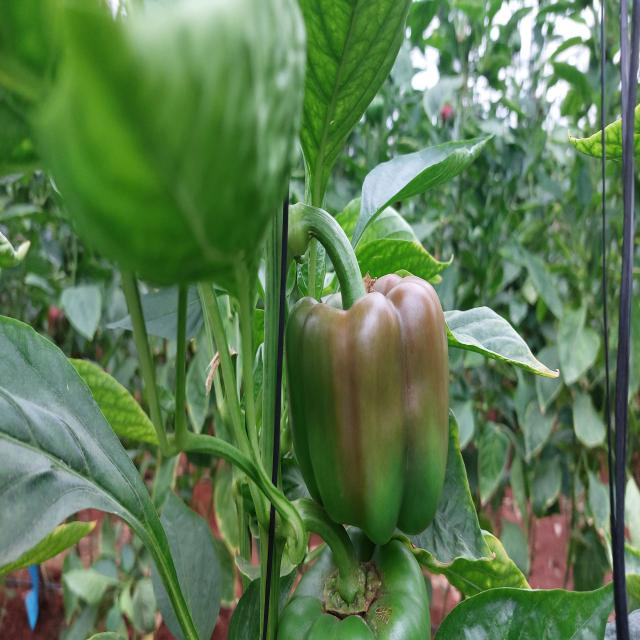BrownishRed--Can-be-Harvested: (284, 285, 464, 563)
